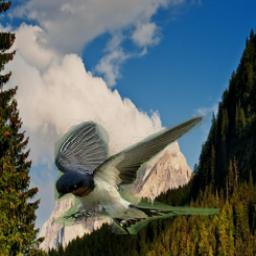Swallow: (54, 113, 219, 234)
